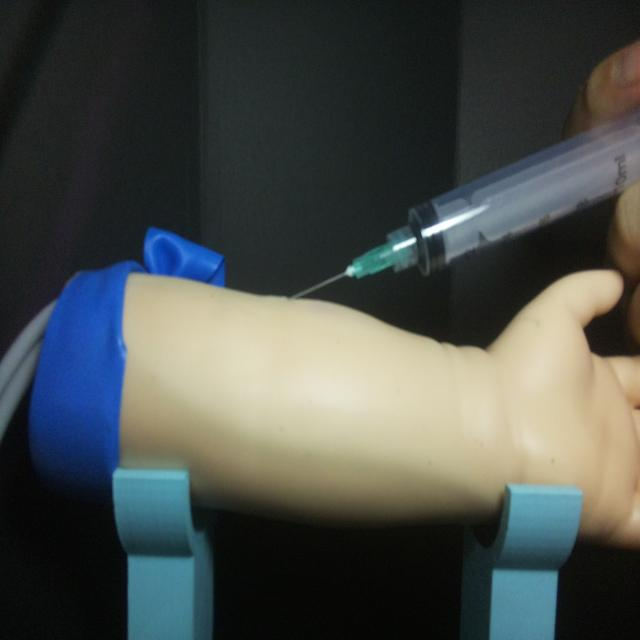17deg: (284, 108, 638, 304)
